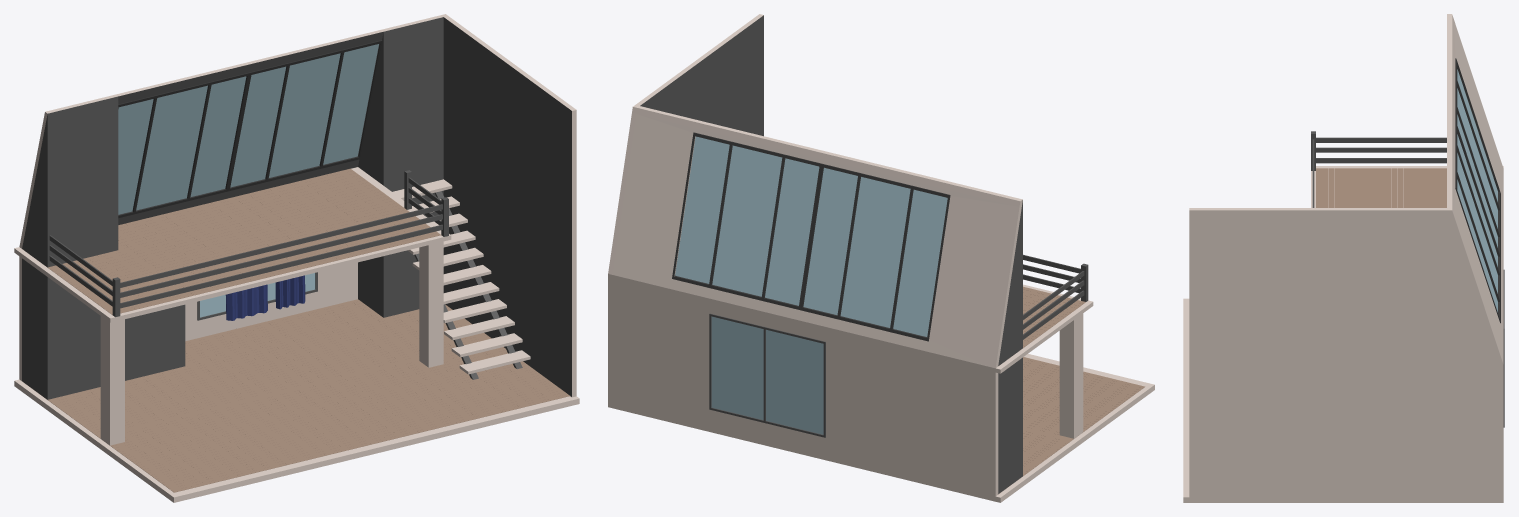
File: apartment_03.glb
3 renders of one model, left to right at view 1: azimuth 30°, elevation 25°; view 2: azimuth 150°, elevation 25°; view 3: azimuth 270°, elevation 25°, orthographic. The views are drawn at different scales.
Parts seen in each view (by area): view 1: apartment_03; view 2: apartment_03; view 3: apartment_03.
Part boxes in pixels (box(x1,y1,x2,y2)): apartment_03: box(14, 14, 579, 502); apartment_03: box(608, 14, 1154, 502); apartment_03: box(1183, 14, 1504, 502).
Size of the model in its own units: 14.96 by 10.28 by 10.22.
Materials: 1 (1 with a texture image).
